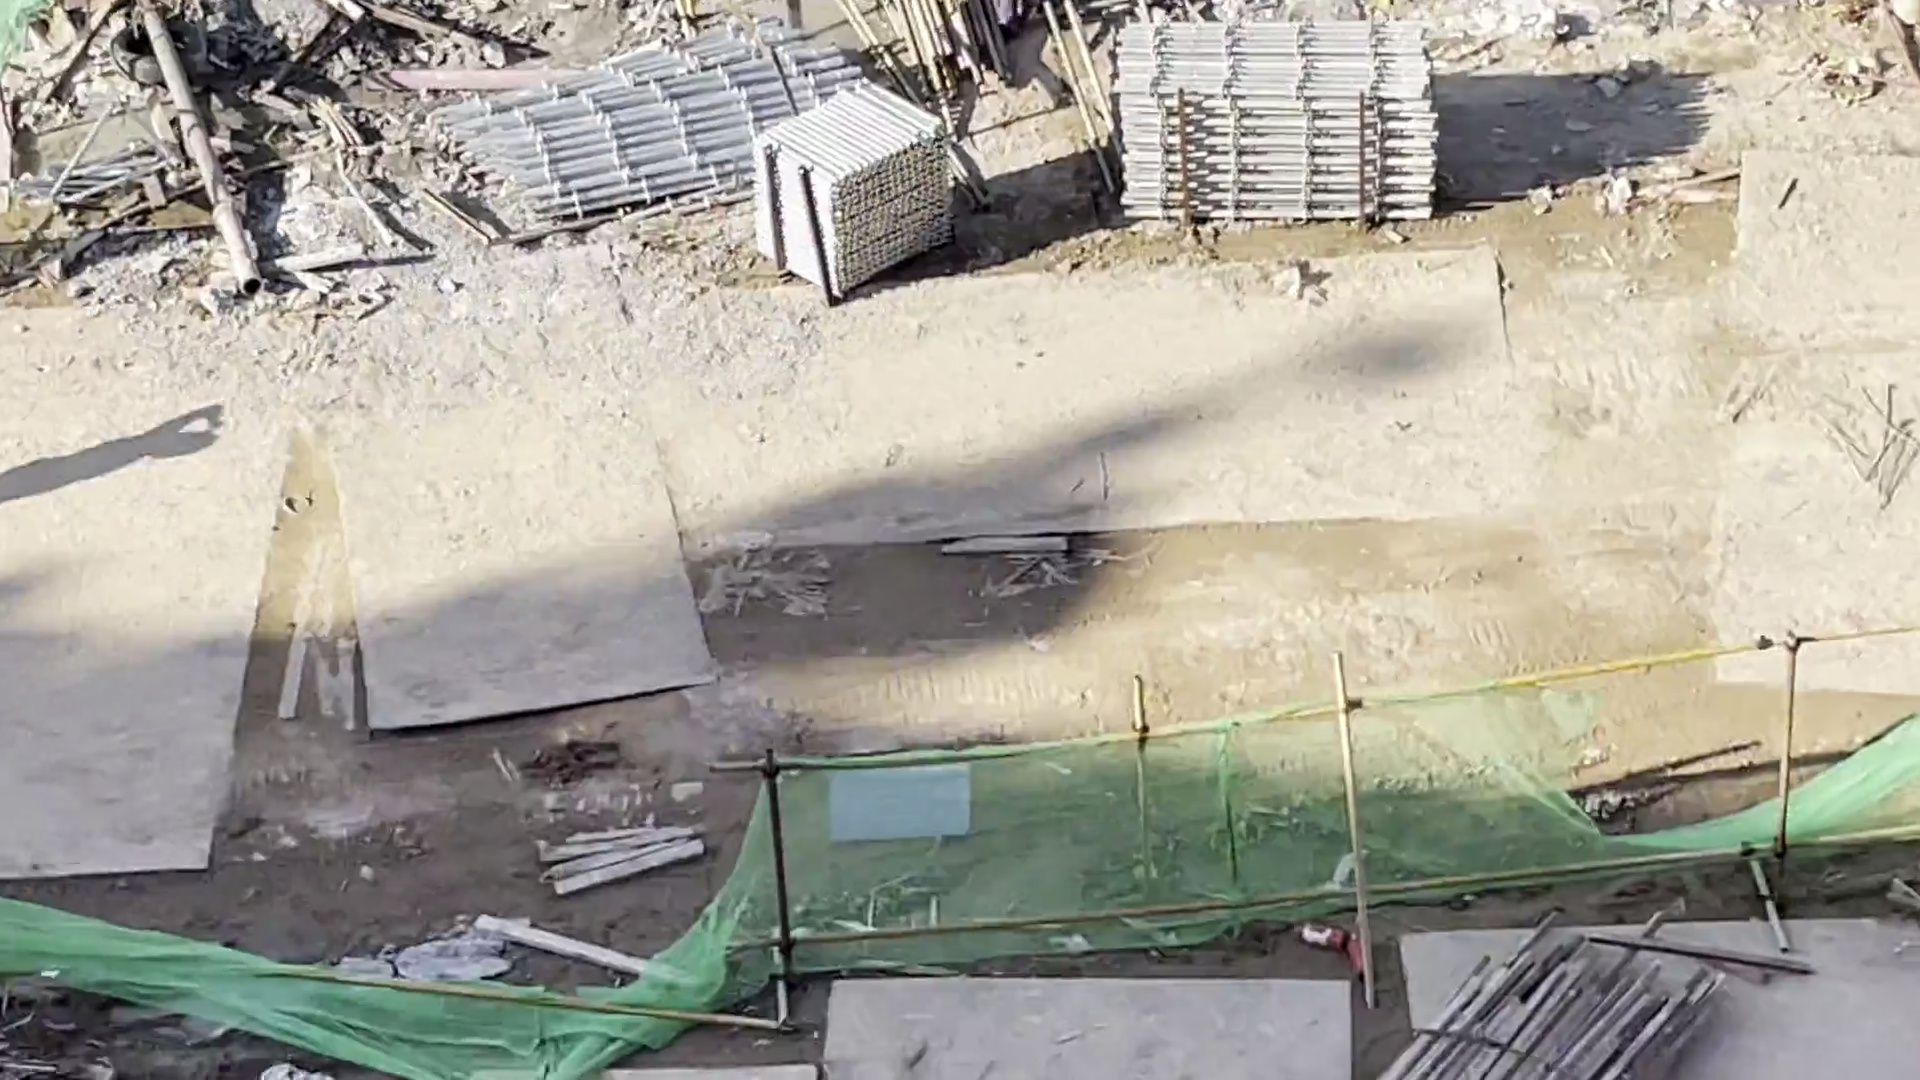scaffold: (458, 26, 831, 256), (1101, 26, 1433, 214), (767, 87, 898, 306)
